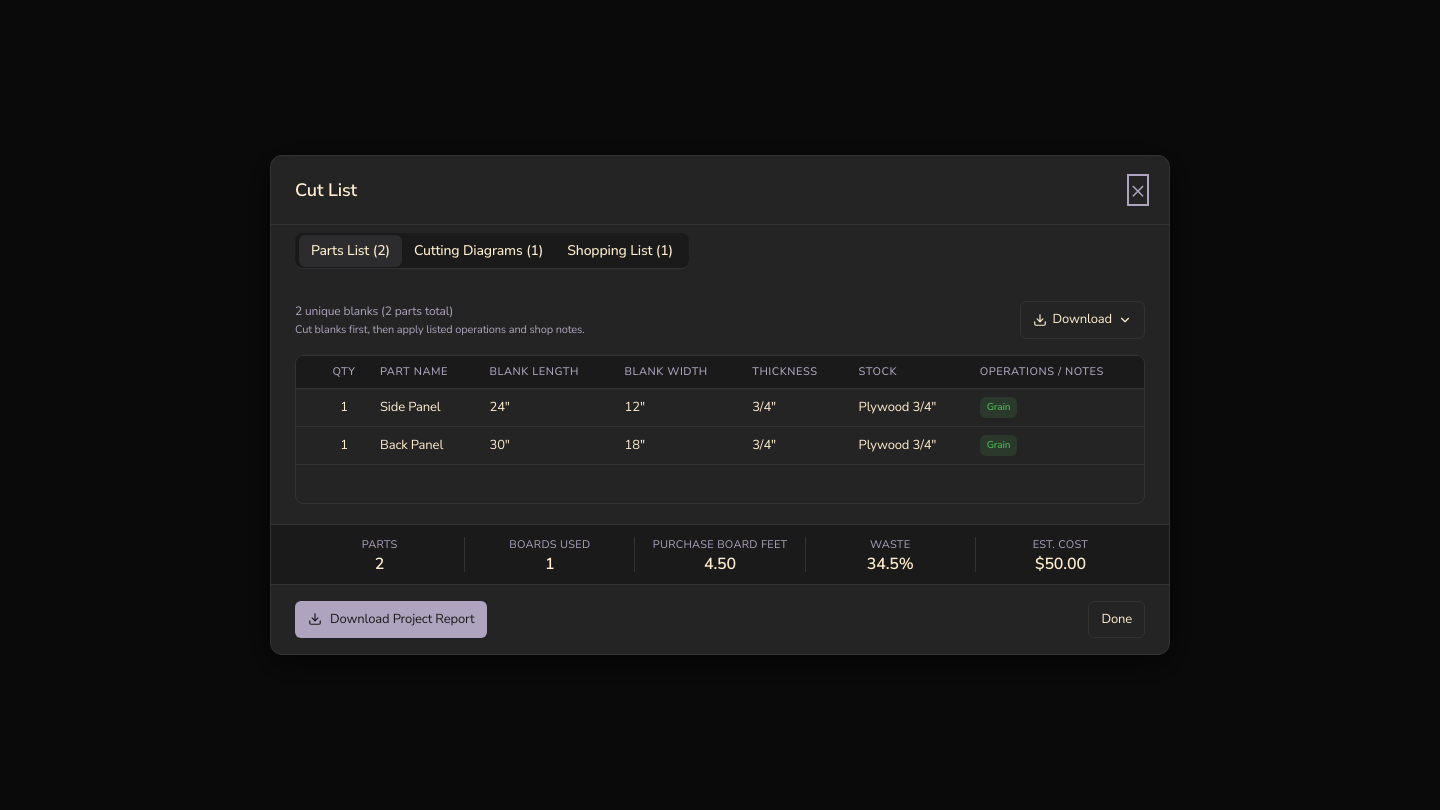
Scenario: CutListModal › shopping list tab › shows Download dropdown with CSV option in shopping list tab
Press the mouse on the tab "Shopping List (1)" at x=620, y=250, box [555,234,685,266]
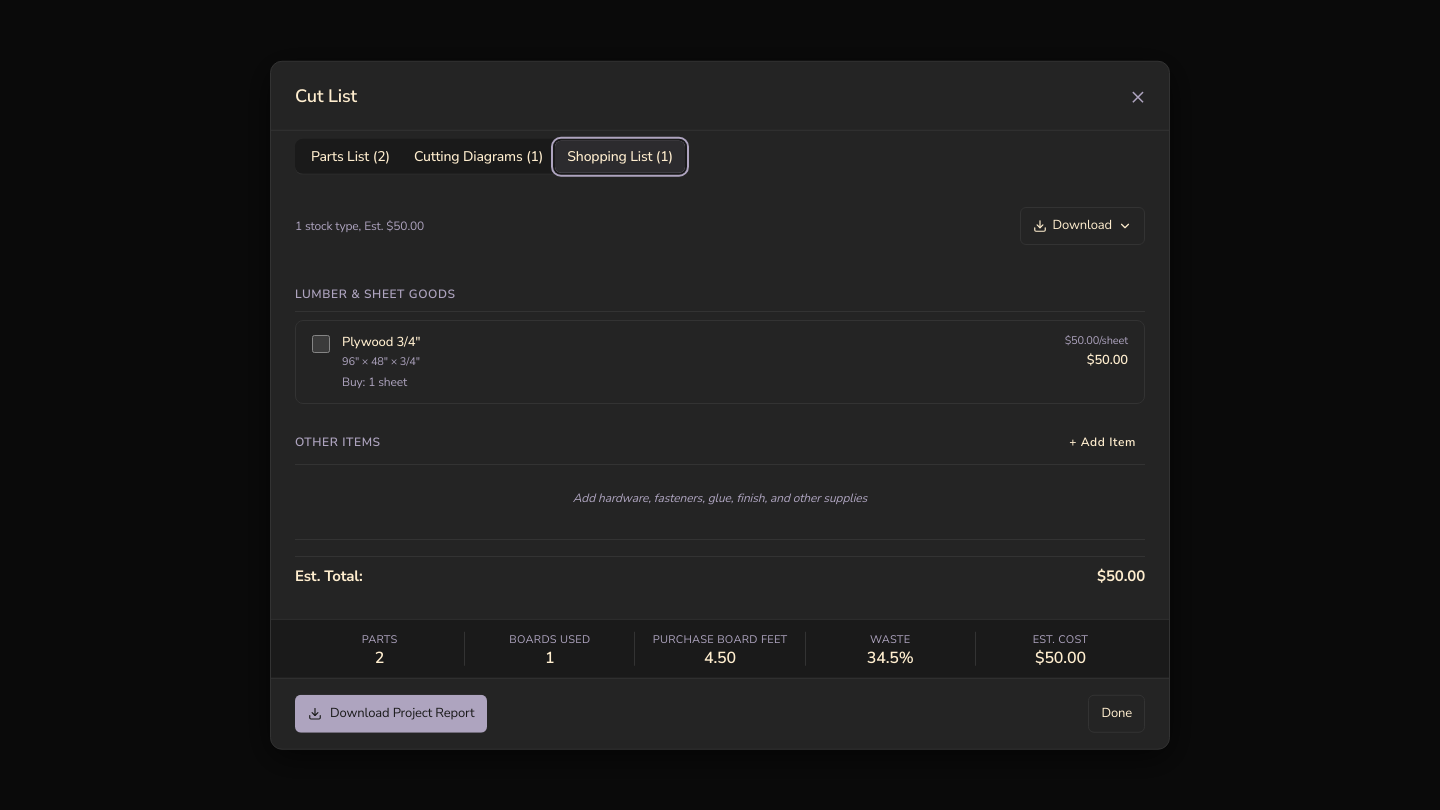
Click the Download dropdown to reveal options
Click the button "Download" at x=1082, y=226, box [1020,207,1145,244]
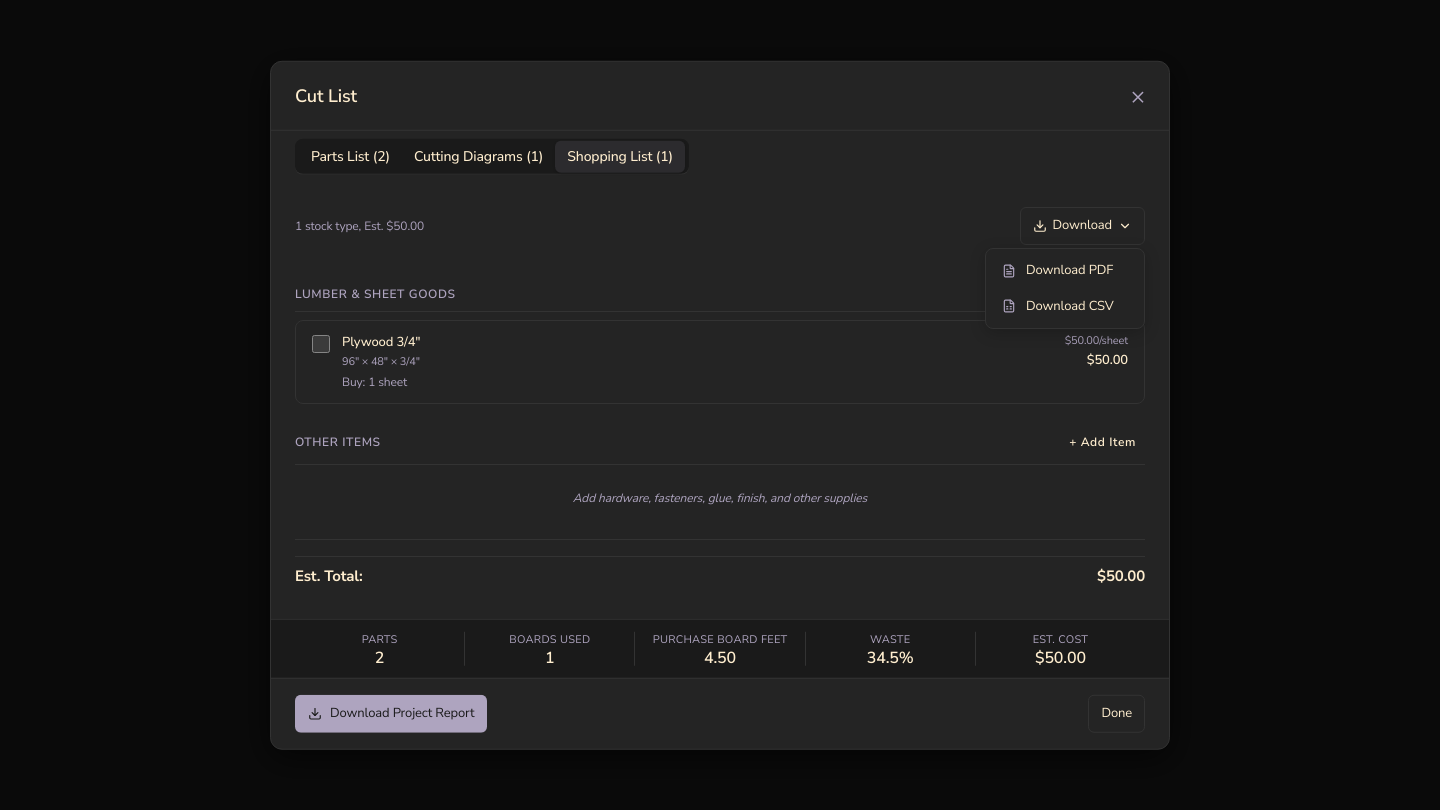
Result: the menu item "Download CSV" is shown at [1002,296,1114,314]
